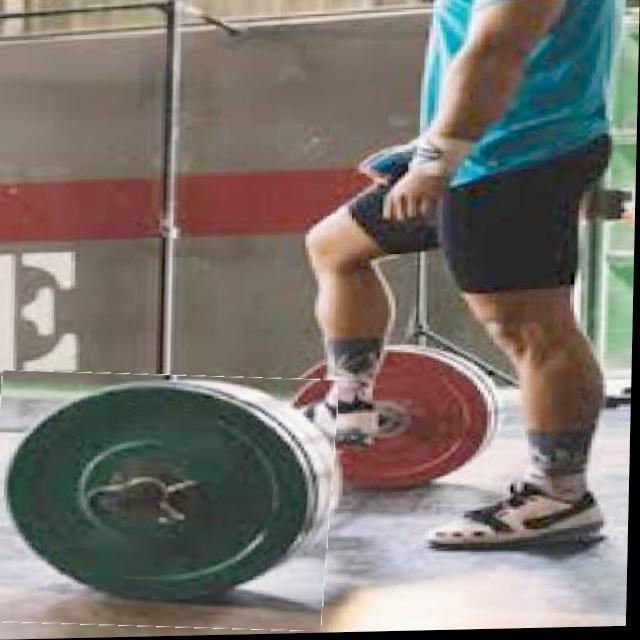barbell: (1, 370, 338, 635)
